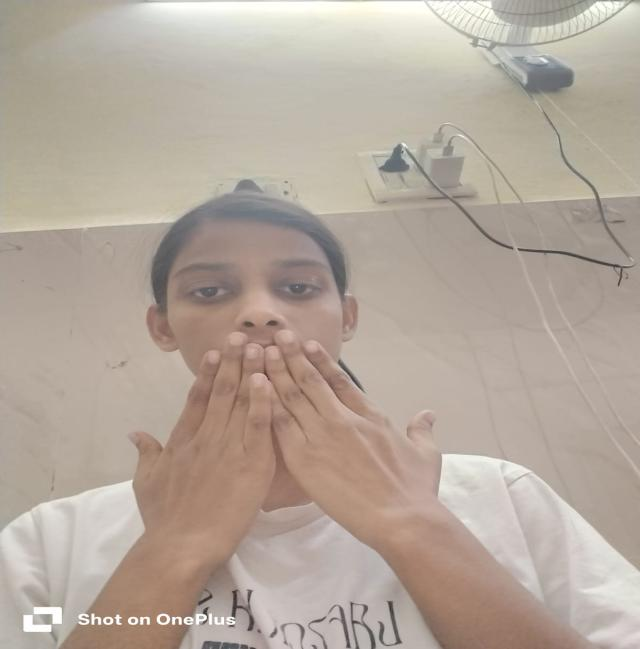Thanks: (112, 319, 464, 572)
